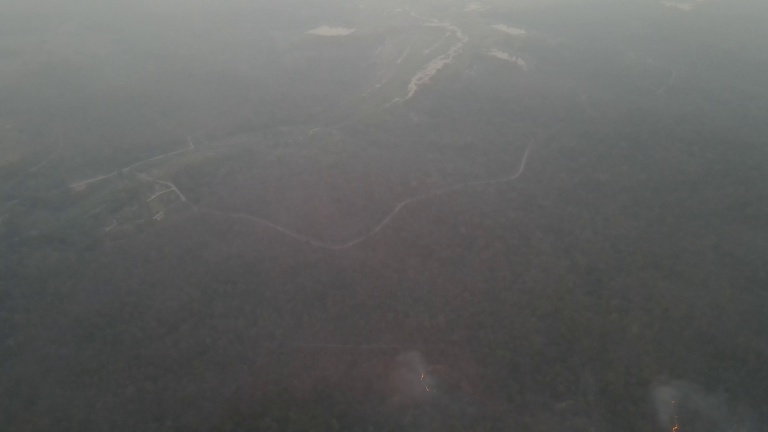fire: (666, 393, 681, 432), (419, 363, 437, 393)
smoke: (652, 371, 747, 432), (389, 342, 460, 416)
